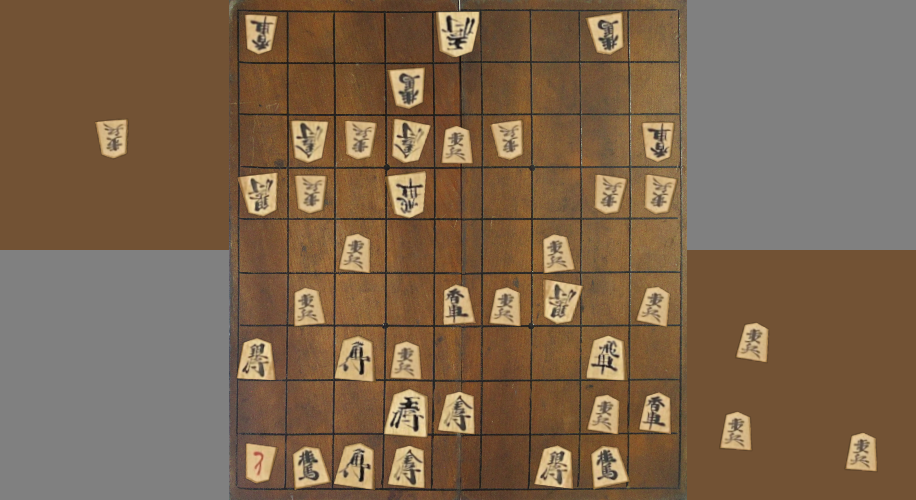A: (582, 333, 631, 383), (384, 386, 429, 440), (531, 442, 578, 493), (333, 437, 379, 489), (439, 123, 484, 173), (237, 332, 282, 382), (434, 389, 480, 437), (586, 444, 633, 490), (287, 445, 334, 491), (334, 336, 378, 385), (287, 282, 330, 332), (537, 232, 580, 280), (634, 283, 676, 331), (336, 227, 376, 277), (636, 391, 678, 438), (485, 285, 529, 327), (588, 393, 627, 440), (388, 440, 426, 488), (389, 337, 427, 383), (439, 282, 475, 329)
B: (381, 168, 435, 218), (433, 8, 482, 60), (234, 169, 285, 215), (388, 116, 433, 166), (584, 12, 629, 60), (636, 116, 676, 166), (289, 173, 331, 218), (386, 63, 427, 109), (291, 119, 330, 165), (488, 118, 530, 160), (591, 171, 630, 213), (642, 173, 676, 221), (243, 13, 279, 55), (343, 118, 379, 159)
C: (714, 408, 758, 458), (733, 321, 774, 371), (840, 429, 880, 475)
D: (87, 112, 133, 164)
